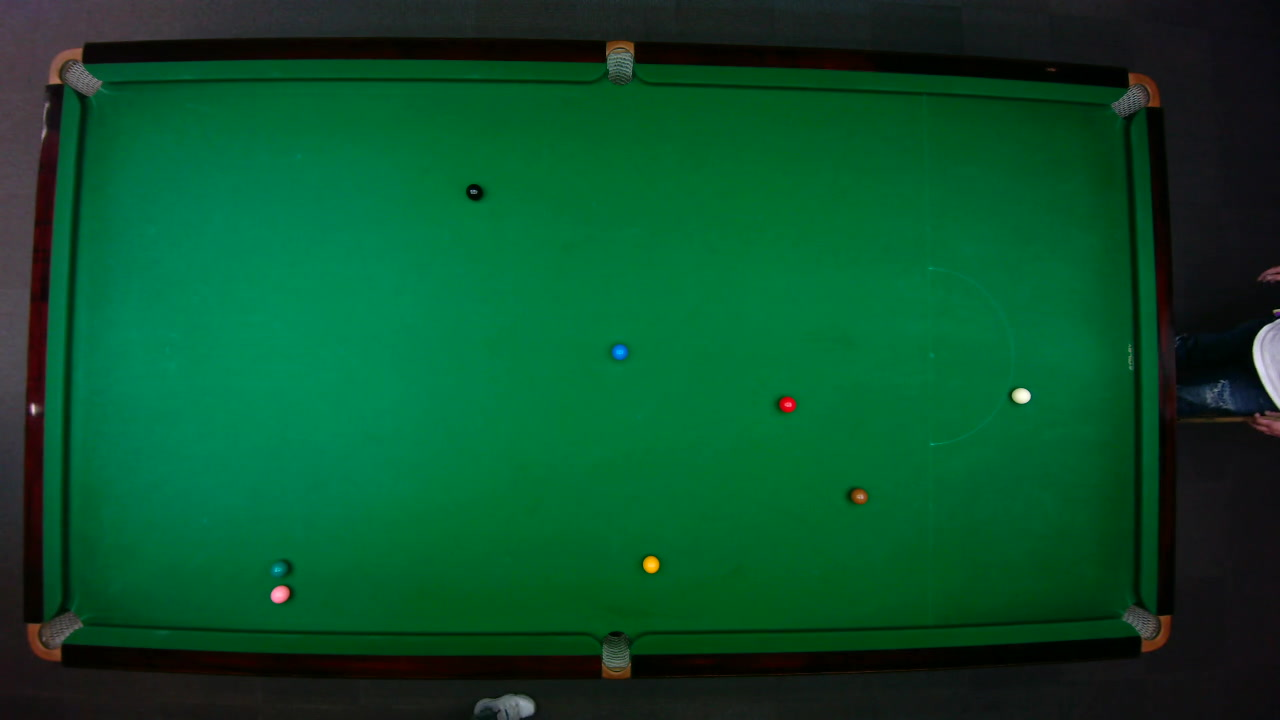bag: (25, 609, 83, 661), (46, 47, 102, 97), (1119, 602, 1171, 651), (1108, 72, 1160, 118), (601, 629, 630, 679), (605, 39, 633, 85)
black: (464, 183, 482, 200)
blue: (610, 342, 628, 360)
brown: (848, 486, 868, 504)
green: (268, 558, 289, 577)
pink: (268, 583, 290, 604)
red: (777, 395, 797, 412)
white: (1009, 386, 1031, 403)
yellow: (640, 554, 660, 573)
zone: (927, 265, 1013, 444)
